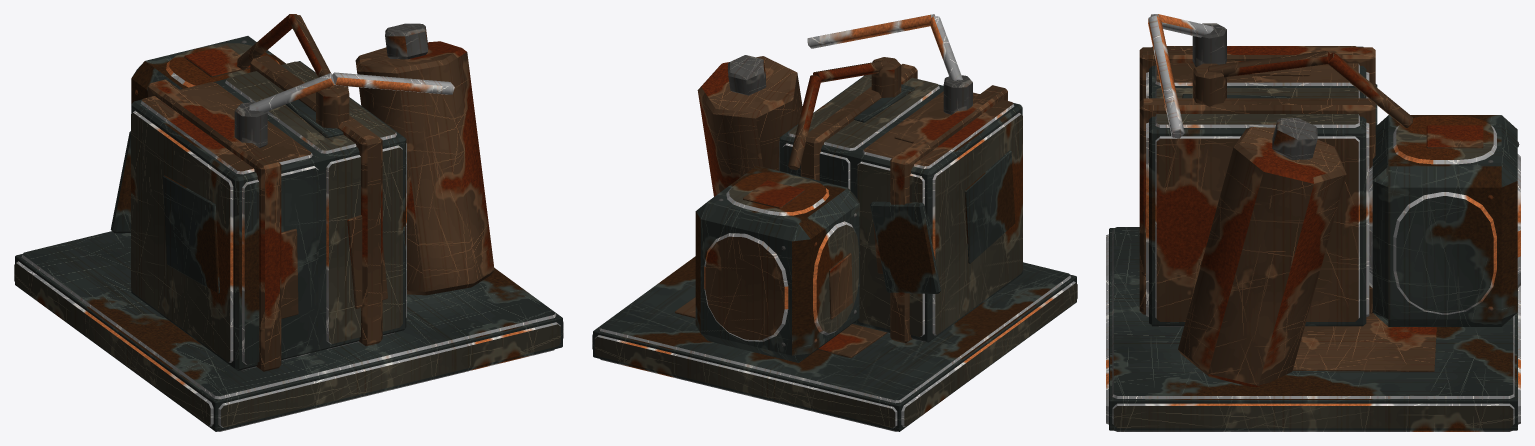
The model's file is R4X_Battery.glb.
3 renders of one model, left to right at view 1: azimuth 30°, elevation 25°; view 2: azimuth 150°, elevation 25°; view 3: azimuth 270°, elevation 25°, orthographic. The views are drawn at different scales.
Visible parts, largest first — view 1: R4X_Battery_Body; view 2: R4X_Battery_Body; view 3: R4X_Battery_Body.
Part boxes in pixels (x1,y1,x2,y2): R4X_Battery_Body: (14,14,563,431); R4X_Battery_Body: (592,14,1077,431); R4X_Battery_Body: (1106,14,1520,431).
Bounding box in the file's own units: 0.52 × 0.4377 × 0.52.
Materials: 5 (5 with a texture image).
